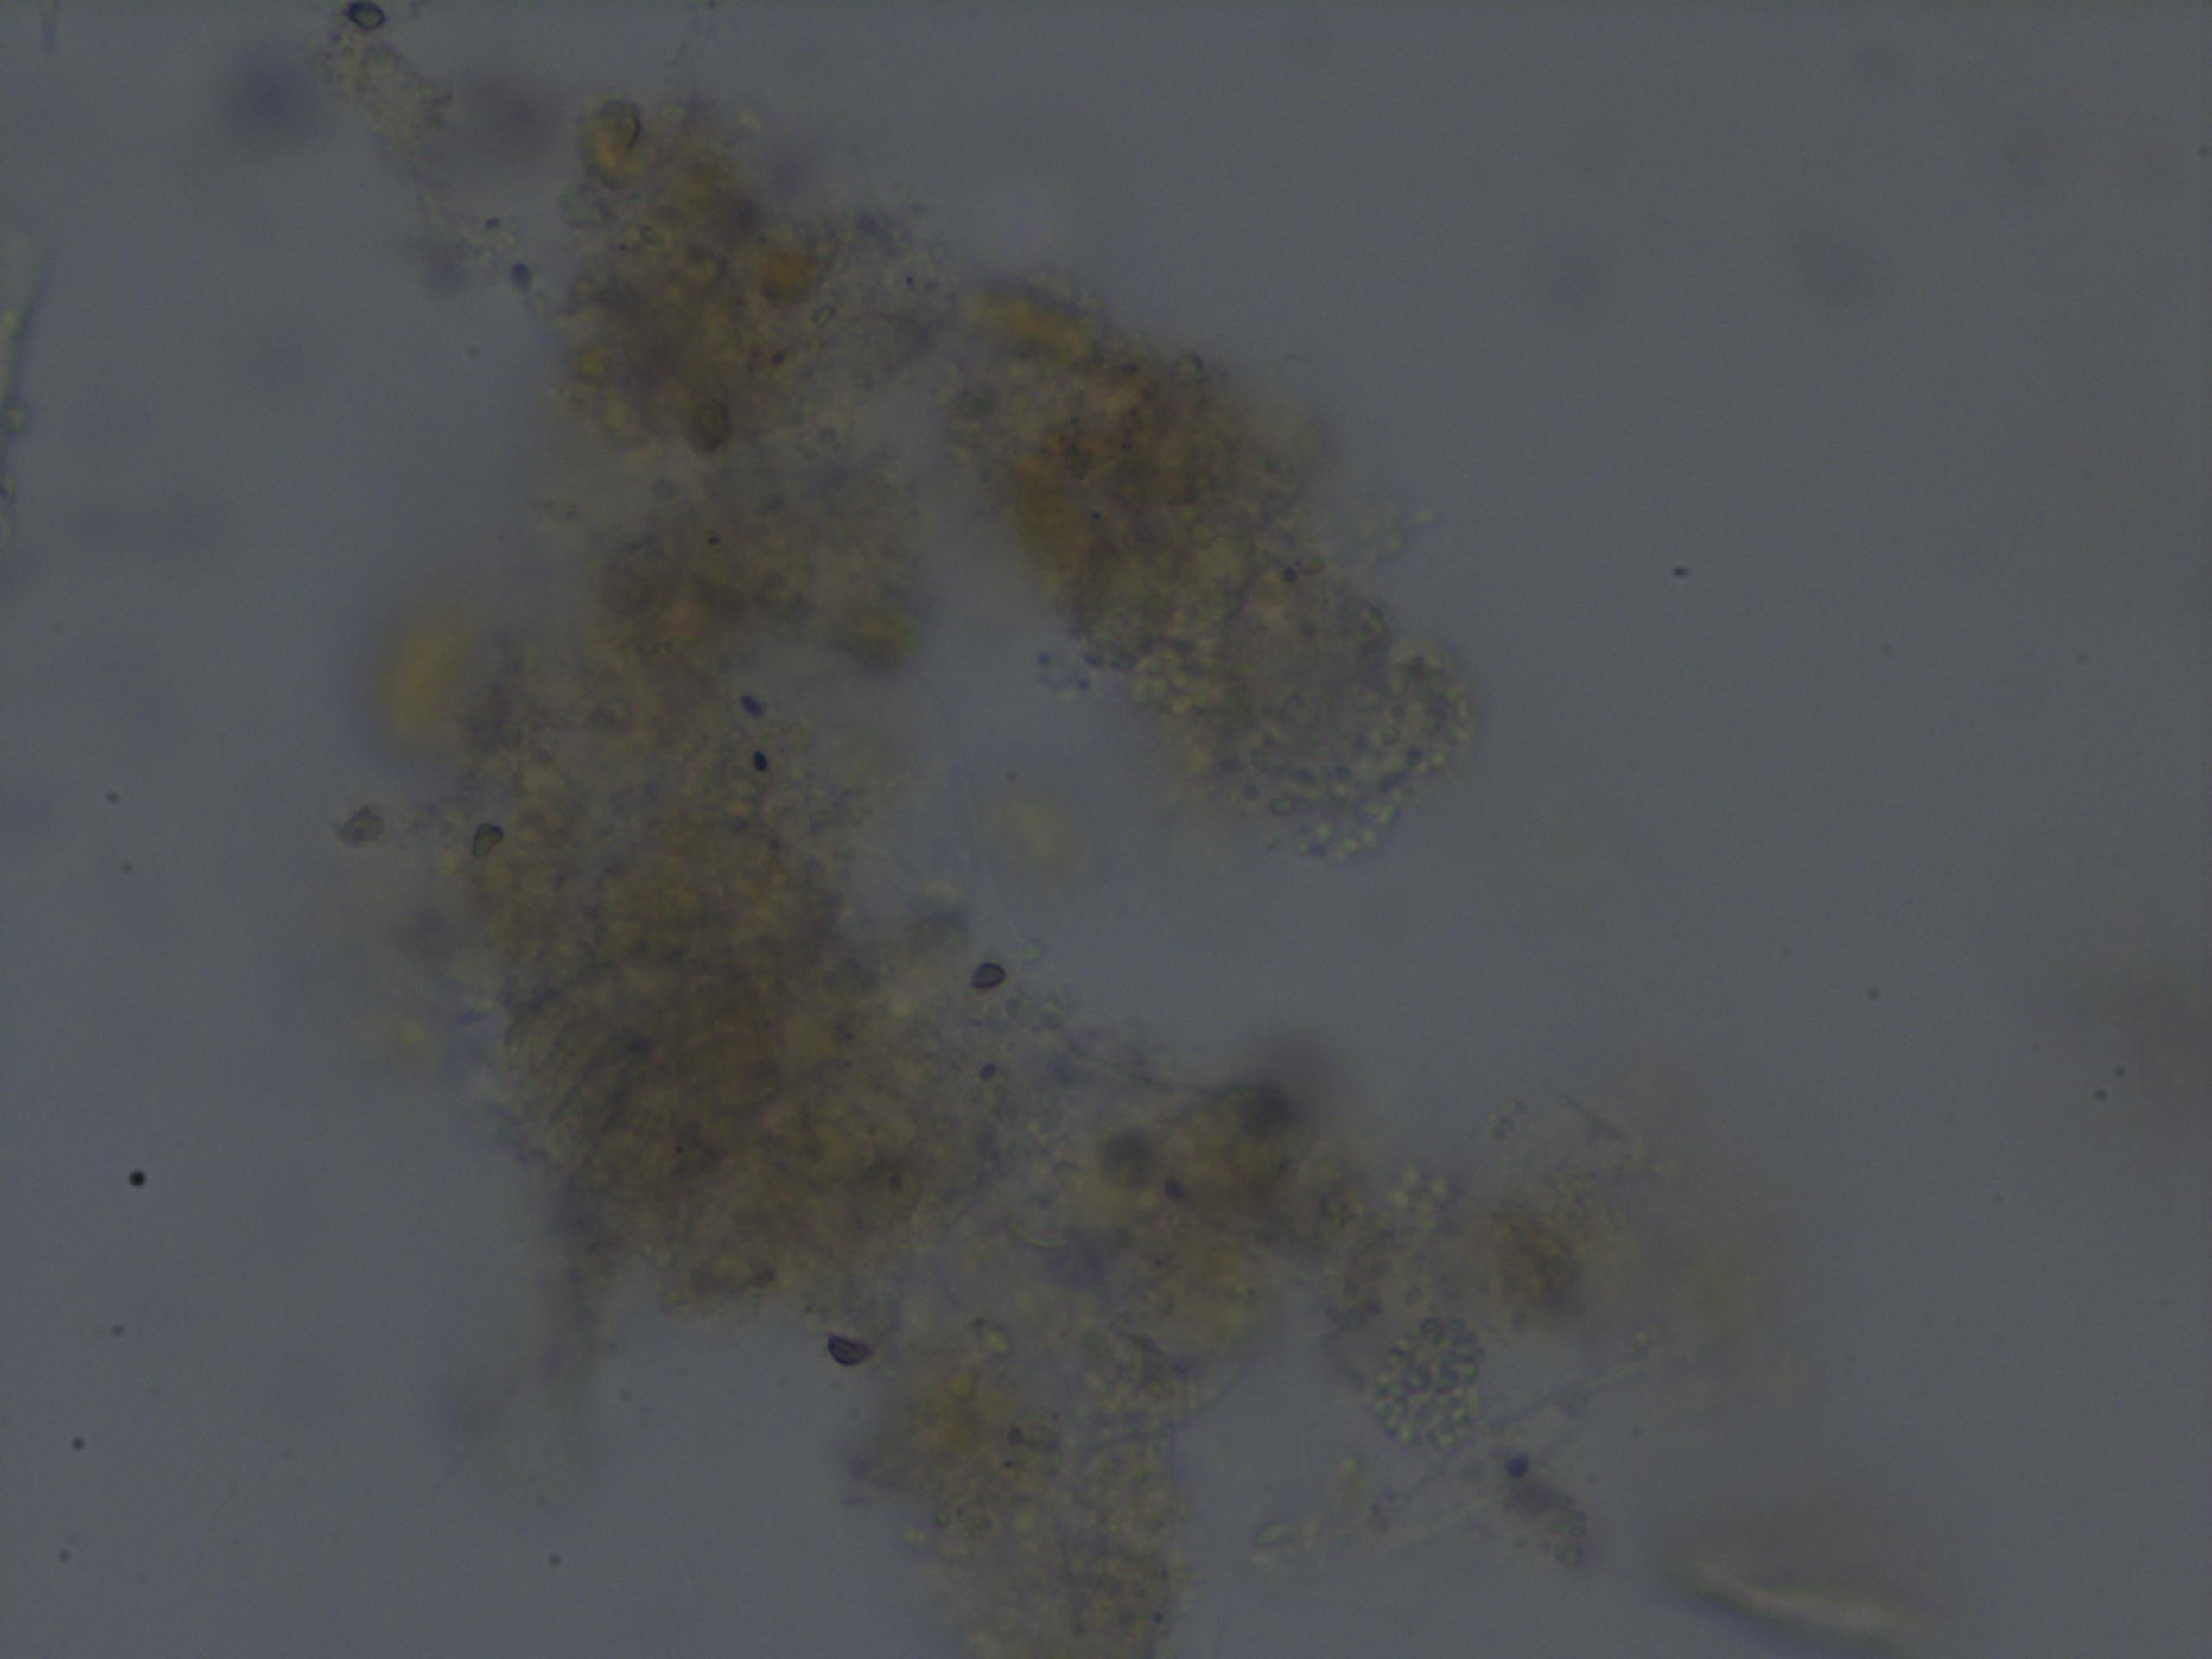open_floc: (308, 2, 1662, 1659)
